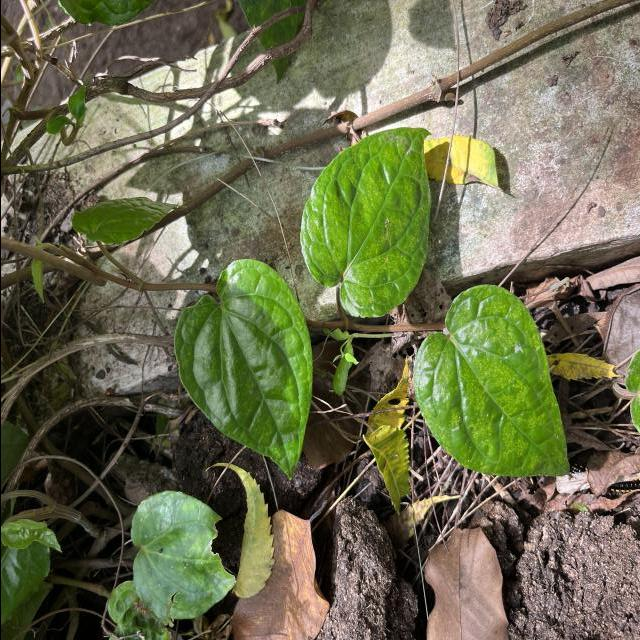Piper betle: (168, 257, 314, 481), (409, 282, 572, 480), (296, 122, 434, 320)
